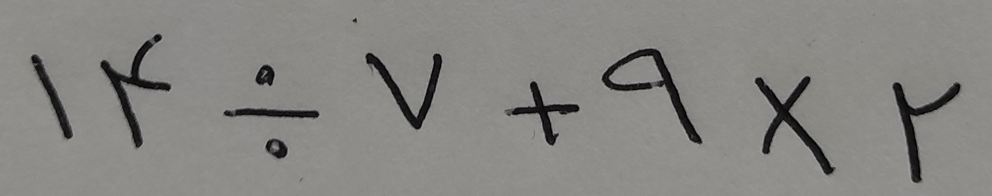character: (602, 47, 705, 147), (223, 61, 318, 160), (99, 30, 174, 152), (755, 74, 835, 179), (890, 82, 962, 188), (365, 49, 445, 131), (504, 79, 580, 146), (30, 50, 74, 141)
